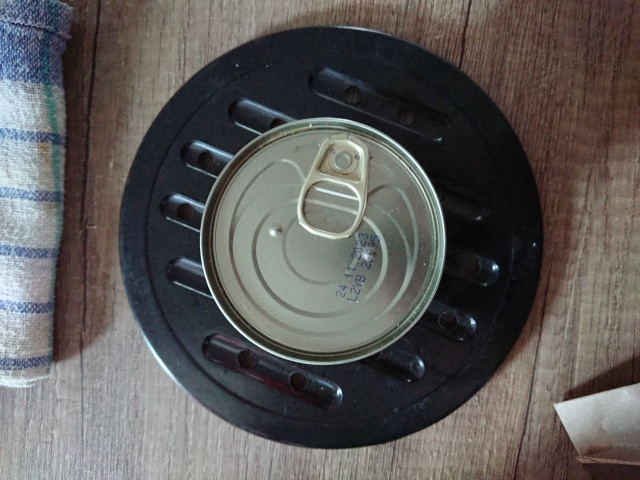Podravka Luncheon Meat 150g: (195, 113, 451, 371)
